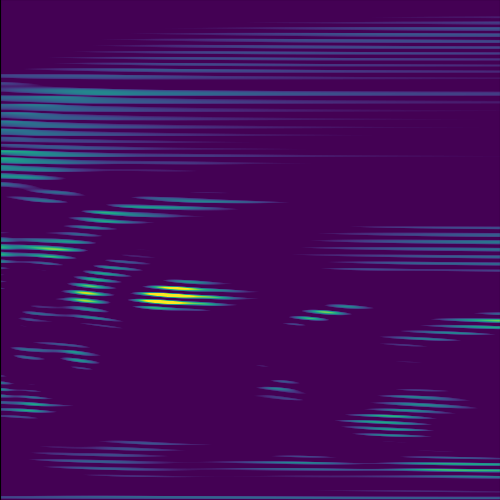semblance: (132, 278, 251, 316)
